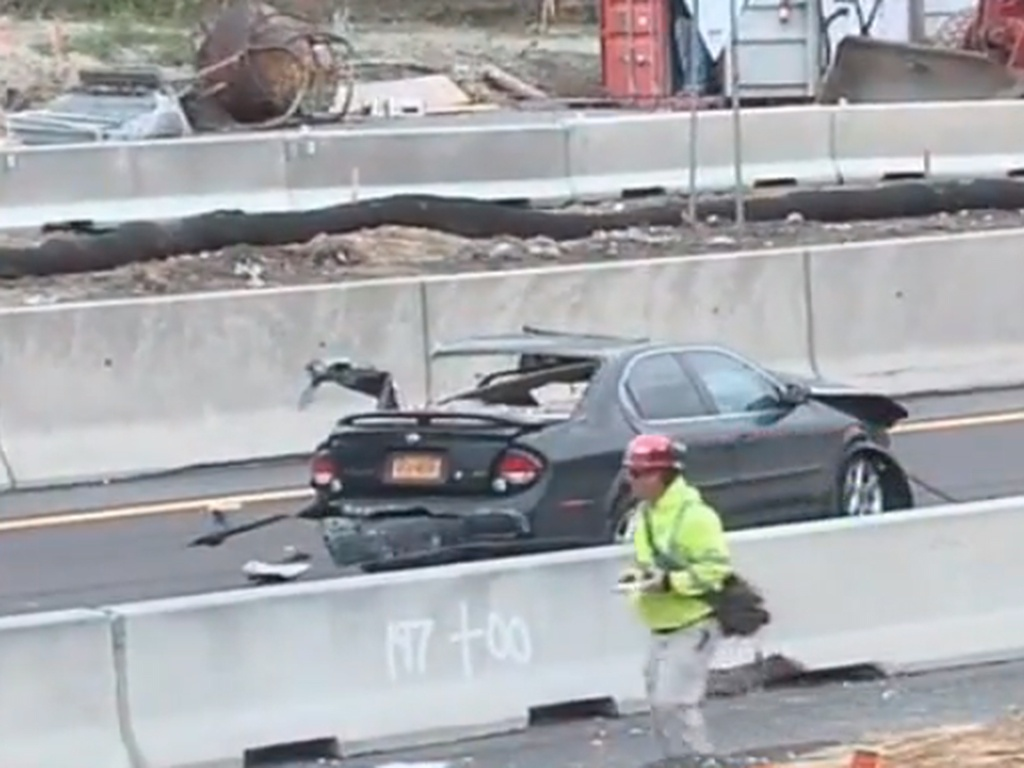red: (616, 431, 678, 502)
